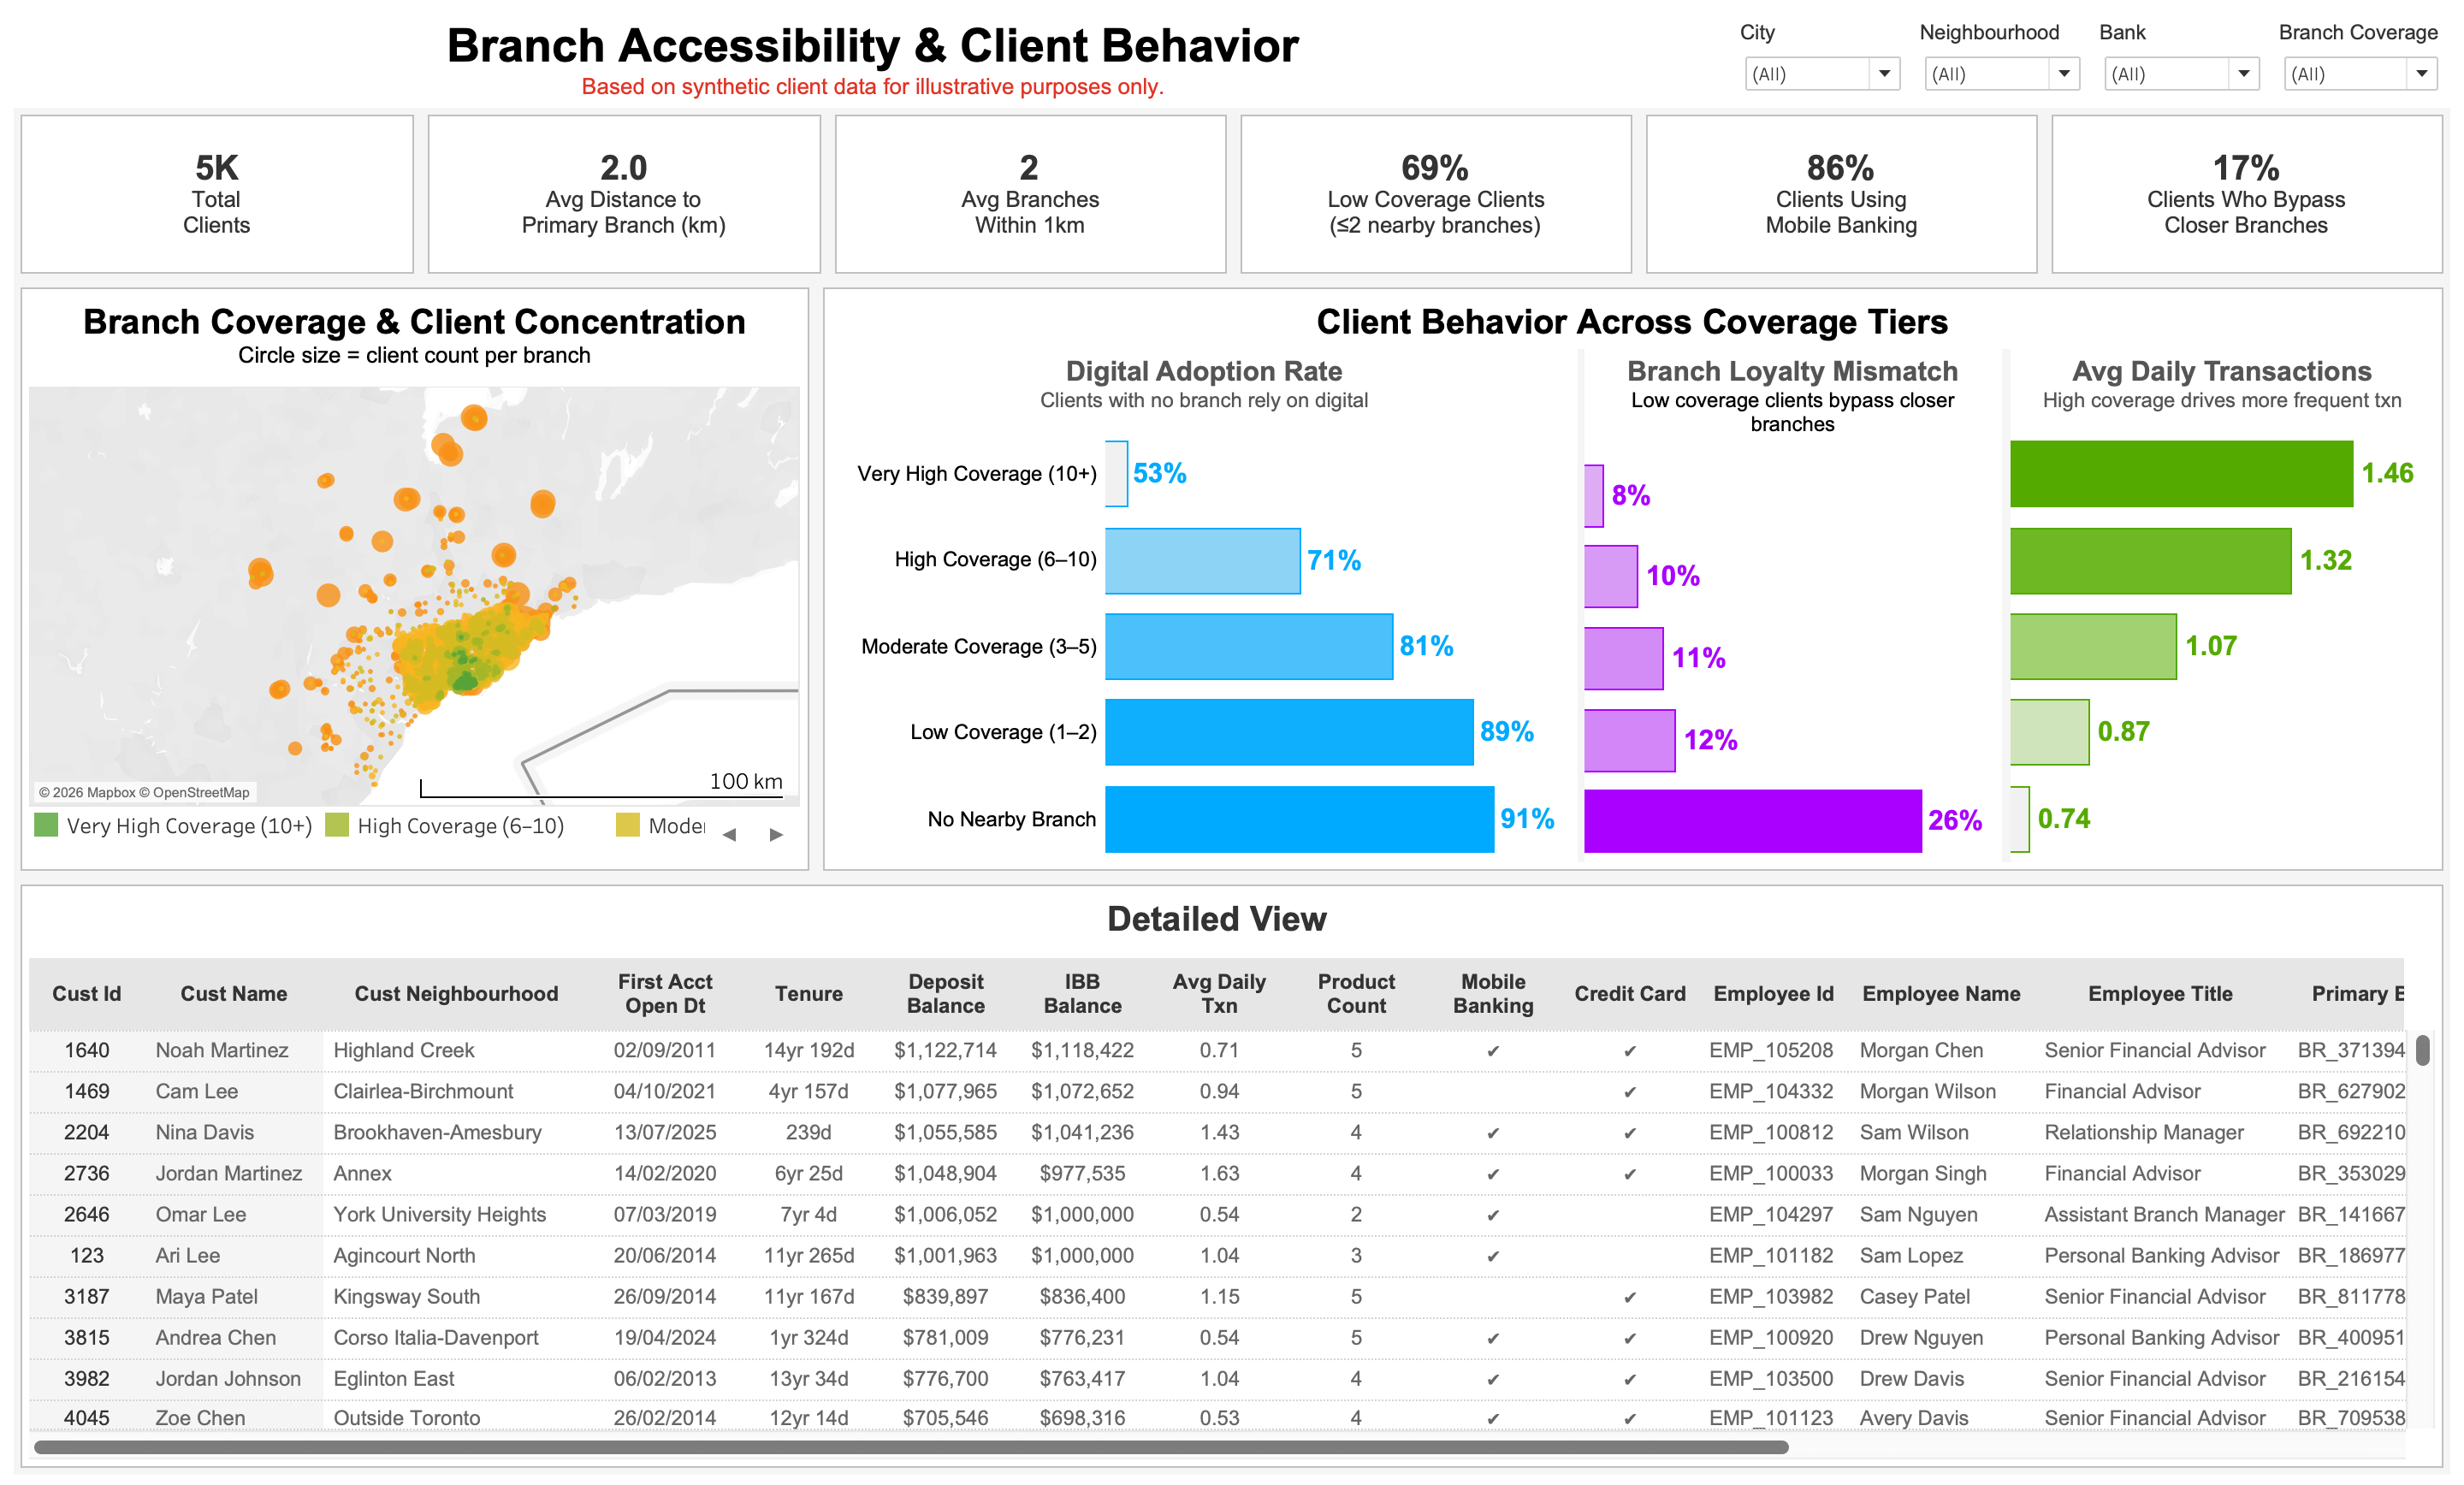

The page's visual inventory and layout, read from the dashboard file:
{"tool":"tableau","page":{"name":"Branch Accessibility & Client Behavior","canvas":[1000,1000],"units":"permille","ordinal":0},"visuals":[{"type":"text","box":[6.8,9.9,632.6,68.1]},{"type":"filter","title":"Digital adoption vs branch coverage","param":"[federated.05nwqyi0e9kmep149xu3g1gegca0].[none:cust_city:nk]","box":[639.4,9.9,88.7,68.1]},{"type":"filter","title":"Digital adoption vs branch coverage","param":"[federated.05nwqyi0e9kmep149xu3g1gegca0].[none:cust_neighbourhood:nk]","box":[728,9.9,88.7,68.1]},{"type":"filter","title":"Branch Coverage & Client Concentration Map","param":"[federated.05nwqyi0e9kmep149xu3g1gegca0].[primary_bank_name (group)]","box":[816.7,9.9,88.7,68.1]},{"type":"filter","title":"Digital adoption vs branch coverage","param":"[federated.05nwqyi0e9kmep149xu3g1gegca0].[none:Calculation_3240168412651540:nk]","box":[905.4,9.9,87.8,68.1]},{"type":"worksheet","title":"KPI Total Customers","mark":"Automatic","box":[6.8,78,164.7,125]},{"type":"worksheet","title":"KPI Avg Distance to Primary Branch (km)","mark":"Automatic","box":[171.5,78,164.7,125]},{"type":"worksheet","title":"KPI Avg Branch Coverage","mark":"Automatic","box":[336.2,78,164.7,125]},{"type":"worksheet","title":"KPI % Low Coverage Customers","mark":"Automatic","box":[500.8,78,164.7,125]},{"type":"worksheet","title":"KPI Digital Adoption Rate","mark":"Automatic","box":[665.5,78,163.8,125]},{"type":"worksheet","title":"KPI % Primary Branch Outside Top 3","mark":"Automatic","box":[829.4,78,163.8,125]},{"type":"worksheet","title":"Branch Coverage & Client Concentration Map","mark":"Circle","rows":["primary_branch_lat"],"cols":["primary_branch_lon"],"box":[14.4,214.1,380.9,331.7]},{"type":"text","box":[410.5,214.1,575.2,38.4]},{"type":"worksheet","title":"Digital adoption vs branch coverage","mark":"Automatic","rows":["Calculation_3240168412651540"],"cols":["Calculation_3240166633553931"],"box":[410.5,252.5,371.6,332.9]},{"type":"worksheet","title":"Primary branch outside top3 vs coverage","mark":"Bar","rows":["Calculation_3240168412651540"],"cols":["Calculation_3240166632968202"],"box":[782.1,252.5,101.8,332.9]},{"type":"worksheet","title":"Transaction behavior vs branch coverage","mark":"Bar","rows":["Calculation_3240168412651540"],"cols":["avg_daily_txn_count"],"box":[883.9,252.5,101.8,332.9]},{"type":"legend","title":"Branch Coverage & Client Concentration Map","param":"[federated.05nwqyi0e9kmep149xu3g1gegca0].[none:Calculation_3240168412651540:nk]","box":[14.4,545.8,380.9,39.6]},{"type":"worksheet","title":"Detailed View","mark":"Circle","rows":["cust_id","cust_name","cust_neighbourhood","first_acct_open_dt","Calculation_3240166648426514","Calculation_3240166550990851","Calculation_3240169355276317","avg_daily_txn_count","Calculation_3240166575120391","Calculation_3240170370768947","Calculation_3240170370236465","employee_id"],"cols":["Calculation_3240170535956536"],"box":[6.8,596.5,986.5,393.6]}]}

Visuals, with their boxes on the dashboard's canvas, which has no fixed pixel size, in thousandths of its width and height (x1, y1, x2, y2). These are canvas units, not pixel positions in the 2464x1485 screenshot, which may show the page scaled, cropped or inside an application window:
text: 7/10/639/78
"Digital adoption vs branch coverage" filter: 639/10/728/78
"Digital adoption vs branch coverage" filter: 728/10/817/78
"Branch Coverage & Client Concentration Map" filter: 817/10/905/78
"Digital adoption vs branch coverage" filter: 905/10/993/78
"KPI Total Customers" worksheet: 7/78/172/203
"KPI Avg Distance to Primary Branch (km)" worksheet: 172/78/336/203
"KPI Avg Branch Coverage" worksheet: 336/78/501/203
"KPI % Low Coverage Customers" worksheet: 501/78/666/203
"KPI Digital Adoption Rate" worksheet: 666/78/829/203
"KPI % Primary Branch Outside Top 3" worksheet: 829/78/993/203
"Branch Coverage & Client Concentration Map" worksheet (Circle marks): 14/214/395/546
text: 410/214/986/252
"Digital adoption vs branch coverage" worksheet: 410/252/782/585
"Primary branch outside top3 vs coverage" worksheet (Bar marks): 782/252/884/585
"Transaction behavior vs branch coverage" worksheet (Bar marks): 884/252/986/585
"Branch Coverage & Client Concentration Map" legend: 14/546/395/585
"Detailed View" worksheet (Circle marks): 7/596/993/990
